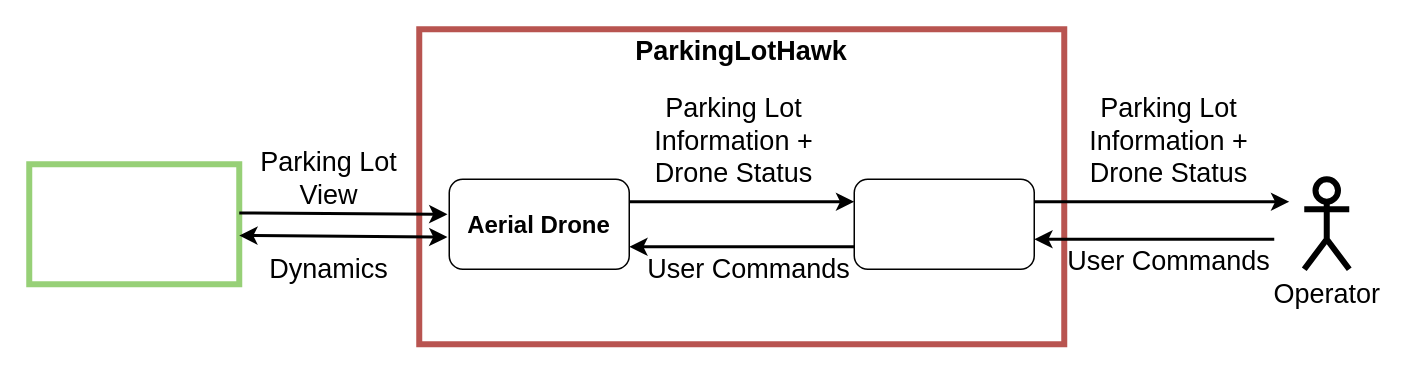
Image size: 1406x372. Some labels were removed from this diagram. The shapes that lost their labels are listed below. From the top down, each one's centre as x and y in pixels, then its label:
At (134,223): "Environment".
At (943,223): "Operator's Application".
